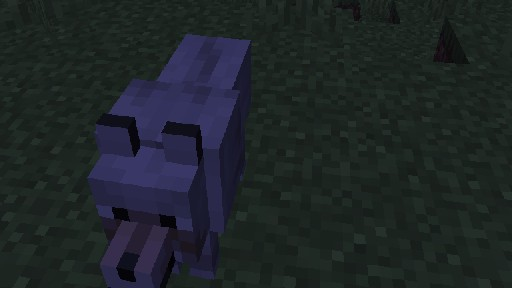wolf: (86, 33, 251, 288)
